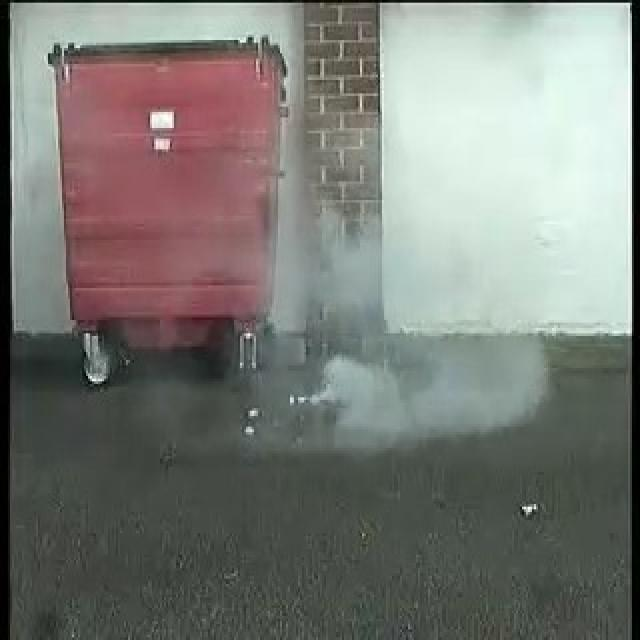smoke: (301, 208, 404, 457)
